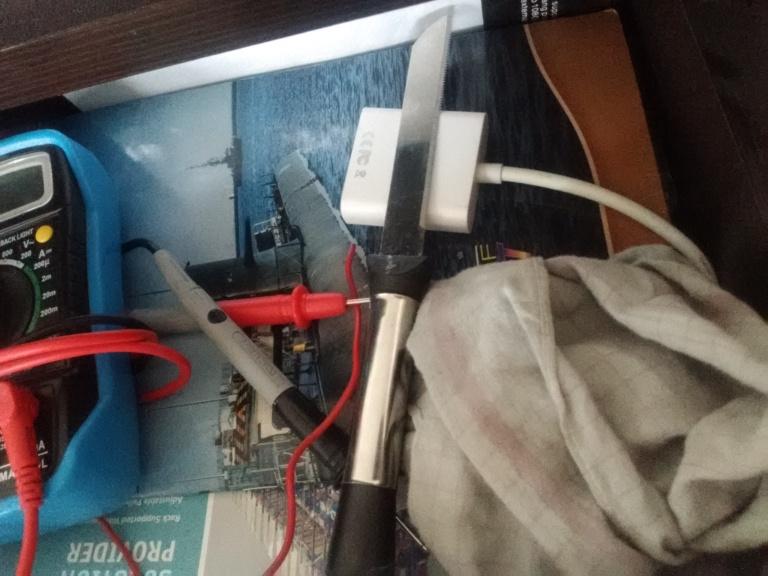knife: (321, 13, 454, 575)
